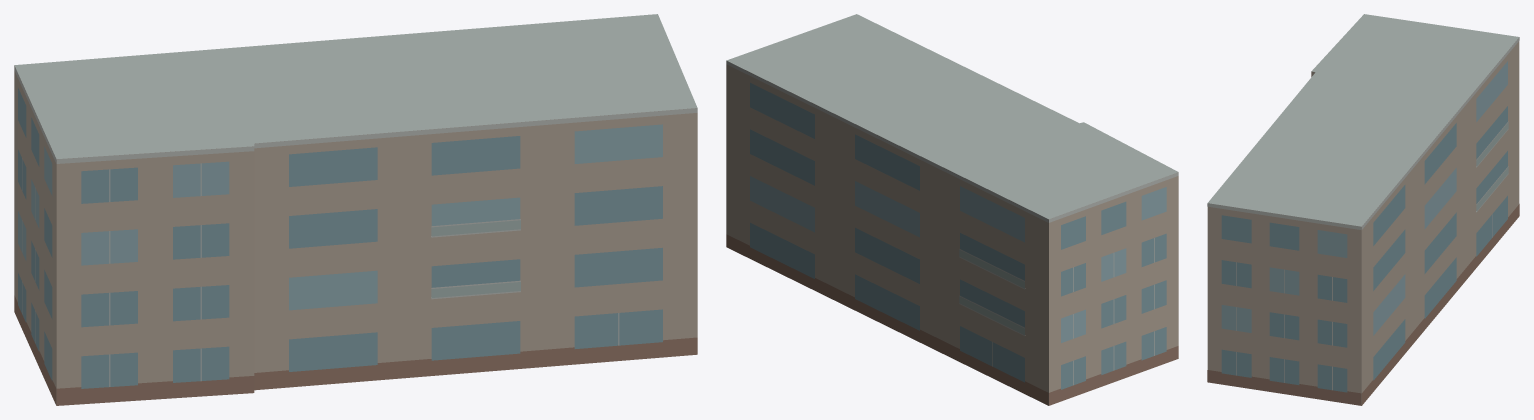
The model's file is survey-upis-32670496.glb.
3 renders of one model, left to right at view 1: azimuth 30°, elevation 25°; view 2: azimuth 150°, elevation 25°; view 3: azimuth 270°, elevation 25°, orthographic. The views are drawn at different scales.
Visible parts, largest first — view 1: survey-upis-32670496.tmp; view 2: survey-upis-32670496.tmp; view 3: survey-upis-32670496.tmp.
Boxes of the visible parts, box(x1,y1,x2,y2) form: survey-upis-32670496.tmp: box(14, 14, 697, 405); survey-upis-32670496.tmp: box(726, 14, 1178, 405); survey-upis-32670496.tmp: box(1207, 14, 1519, 405).
Bounding box in the file's own units: 31.56 × 12.4 × 19.57.
